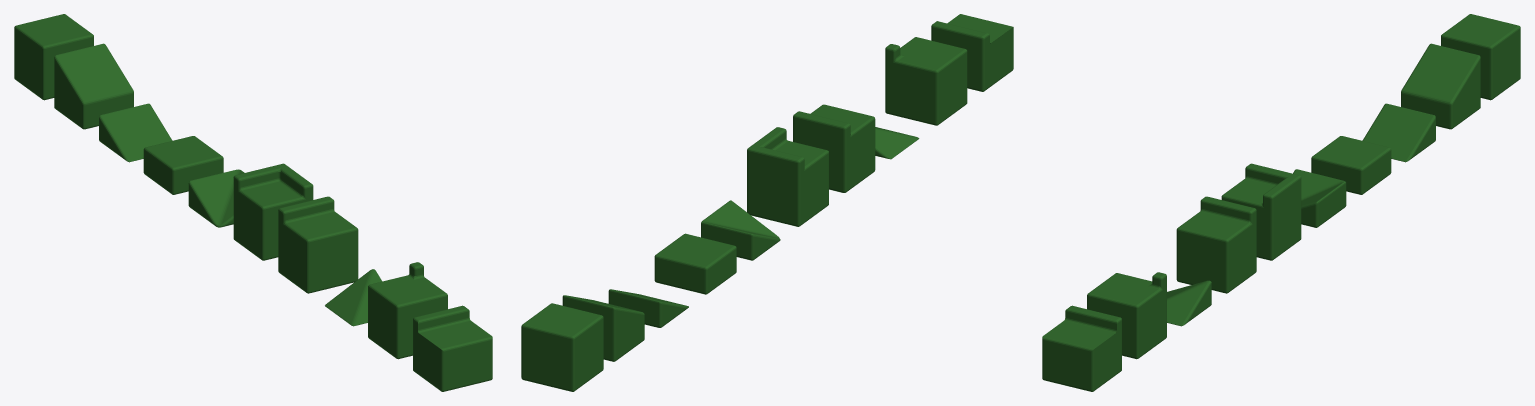
Rendered from world-blocks-v2.glb.
3 views of the same model, side by side, from view 1: azimuth 30°, elevation 25°; view 2: azimuth 150°, elevation 25°; view 3: azimuth 330°, elevation 25° (orthographic). The views are drawn at different scales.
Parts seen in each view (by area): view 1: Block_wall, Block_wall_inwards, Upper_slope, Block_wall_corner, Block_wall_inverse_corner, Block, Half_block, Lower_slope, Lower_slope_corner, Lower_slope_inside_corner; view 2: Block_wall_corner, Block_wall_inverse_corner, Block, Block_wall, Block_wall_inwards, Half_block, Lower_slope_corner, Upper_slope, Lower_slope, Lower_slope_inside_corner; view 3: Block_wall, Block_wall_inwards, Upper_slope, Block_wall_corner, Block_wall_inverse_corner, Block, Half_block, Lower_slope, Lower_slope_corner, Lower_slope_inside_corner.
Boxes of the visible parts, bbox=[...] form: Block_wall: bbox=[278, 196, 358, 293]; Block_wall_inwards: bbox=[413, 305, 492, 391]; Upper_slope: bbox=[54, 43, 133, 129]; Block_wall_corner: bbox=[233, 163, 313, 260]; Block_wall_inverse_corner: bbox=[368, 262, 447, 359]; Block: bbox=[14, 14, 93, 100]; Half_block: bbox=[143, 136, 223, 194]; Lower_slope: bbox=[99, 103, 172, 162]; Lower_slope_corner: bbox=[188, 169, 244, 227]; Lower_slope_inside_corner: bbox=[325, 269, 382, 326]; Block_wall_corner: bbox=[747, 127, 828, 226]; Block_wall_inverse_corner: bbox=[885, 37, 967, 125]; Block: bbox=[521, 303, 603, 391]; Block_wall: bbox=[793, 104, 875, 192]; Block_wall_inwards: bbox=[931, 14, 1013, 91]; Half_block: bbox=[654, 233, 736, 294]; Lower_slope_corner: bbox=[701, 200, 780, 260]; Upper_slope: bbox=[562, 295, 644, 361]; Lower_slope: bbox=[608, 289, 688, 327]; Lower_slope_inside_corner: bbox=[875, 127, 919, 159]; Block_wall: bbox=[1176, 196, 1256, 293]; Block_wall_inwards: bbox=[1042, 305, 1121, 391]; Upper_slope: bbox=[1401, 43, 1480, 129]; Block_wall_corner: bbox=[1221, 163, 1301, 260]; Block_wall_inverse_corner: bbox=[1087, 272, 1166, 359]; Block: bbox=[1441, 14, 1520, 100]; Half_block: bbox=[1311, 136, 1391, 194]; Lower_slope: bbox=[1362, 103, 1435, 162]; Lower_slope_corner: bbox=[1293, 169, 1346, 227]; Lower_slope_inside_corner: bbox=[1167, 280, 1211, 326].
Size of what is drawn, in the model's own units: 2 by 2.4 by 28.68.
